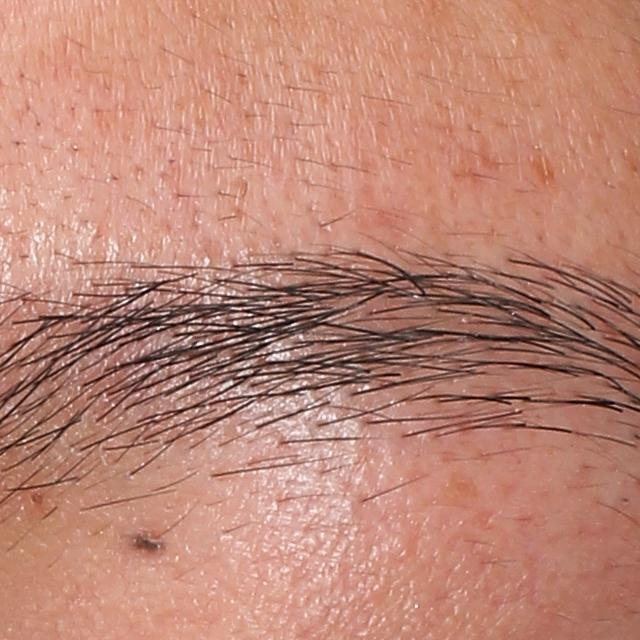comedo: (23, 490, 51, 511)
nevus: (124, 529, 170, 551)
